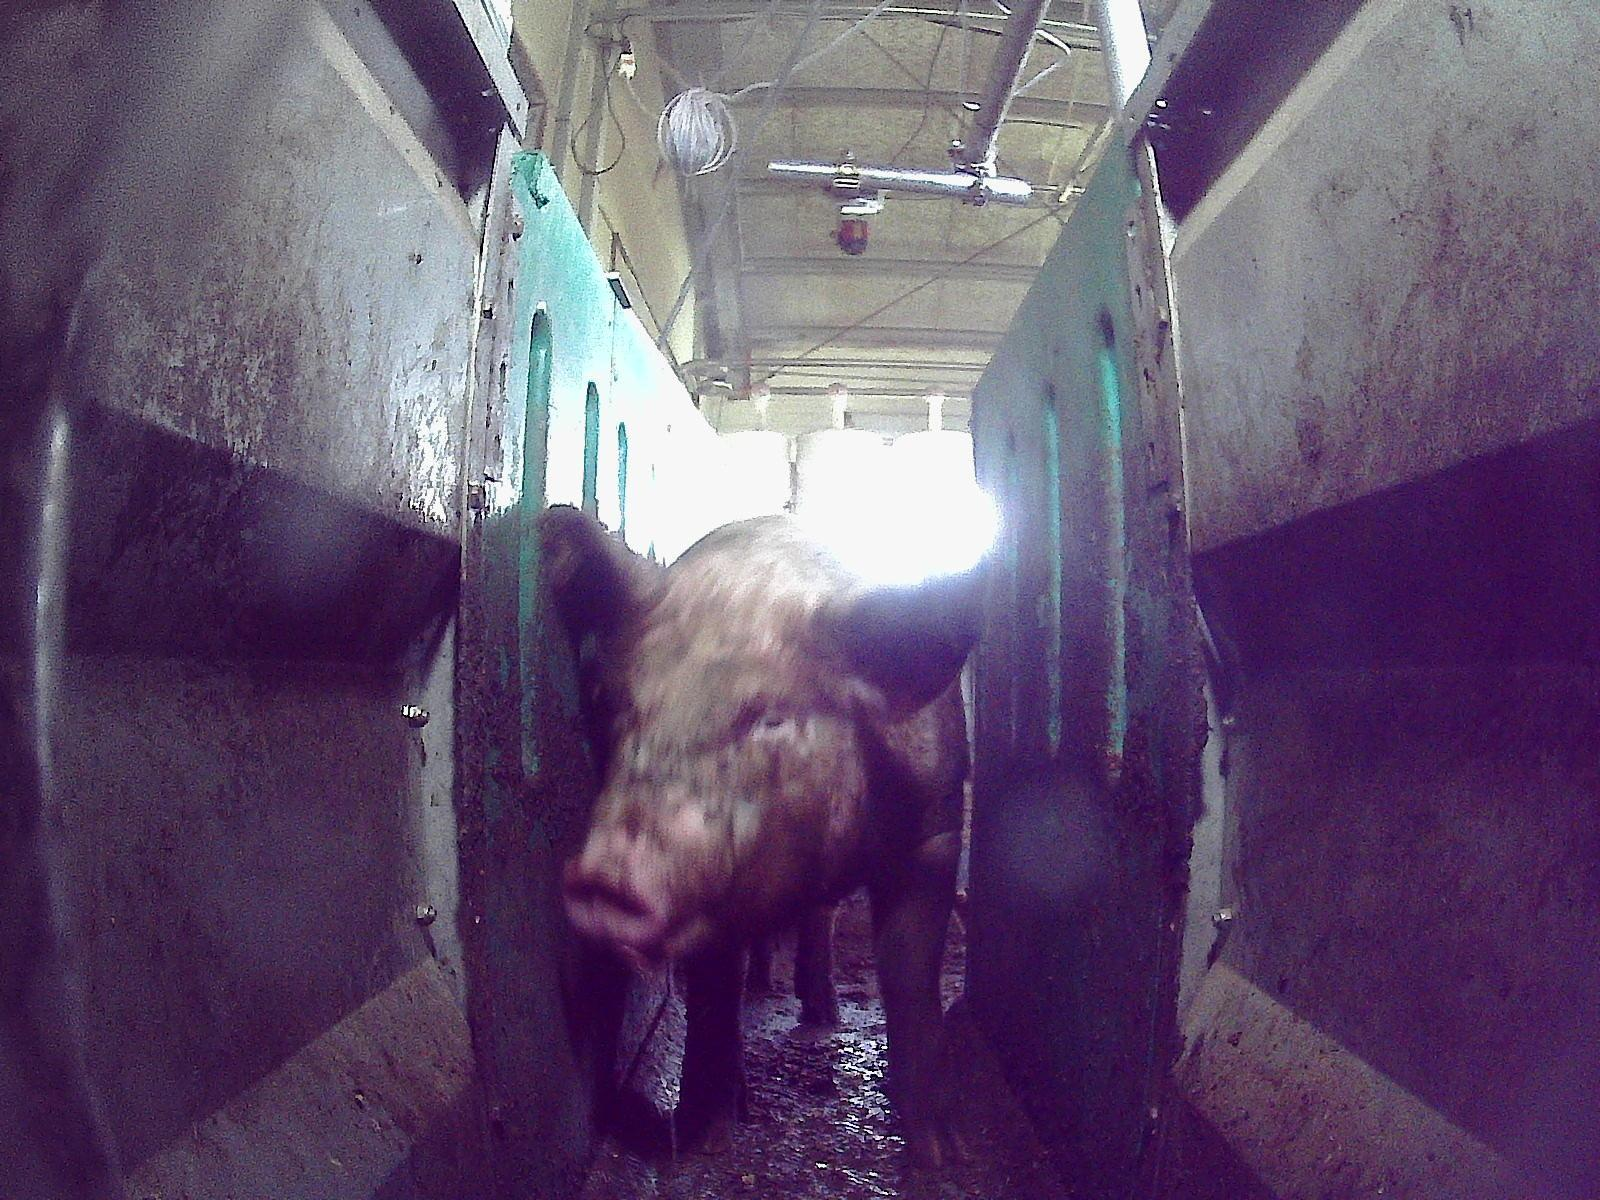Face: (559, 582, 871, 957)
